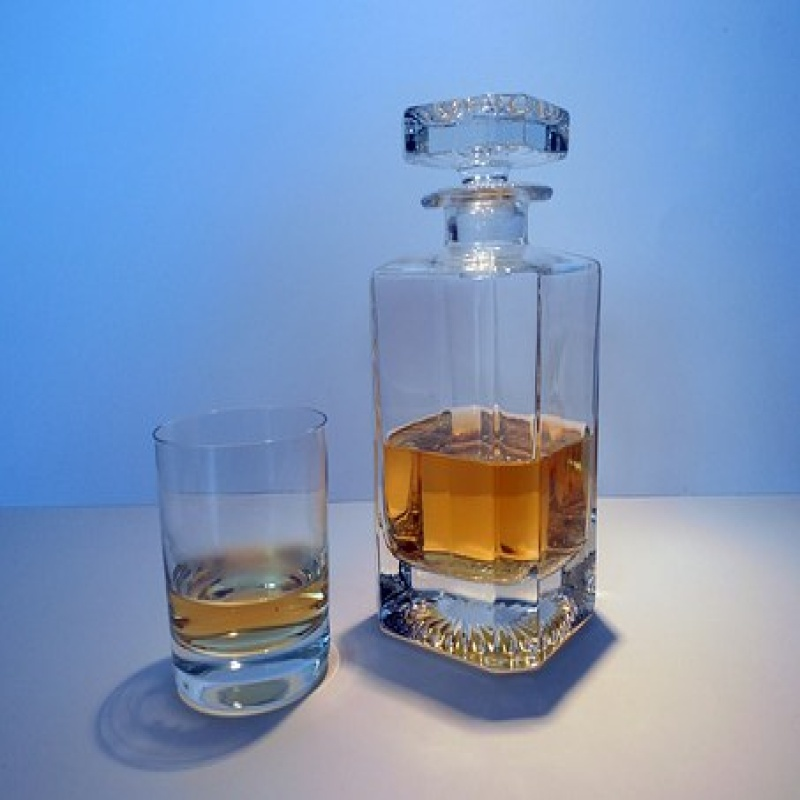whiskey: (139, 418, 342, 698)
